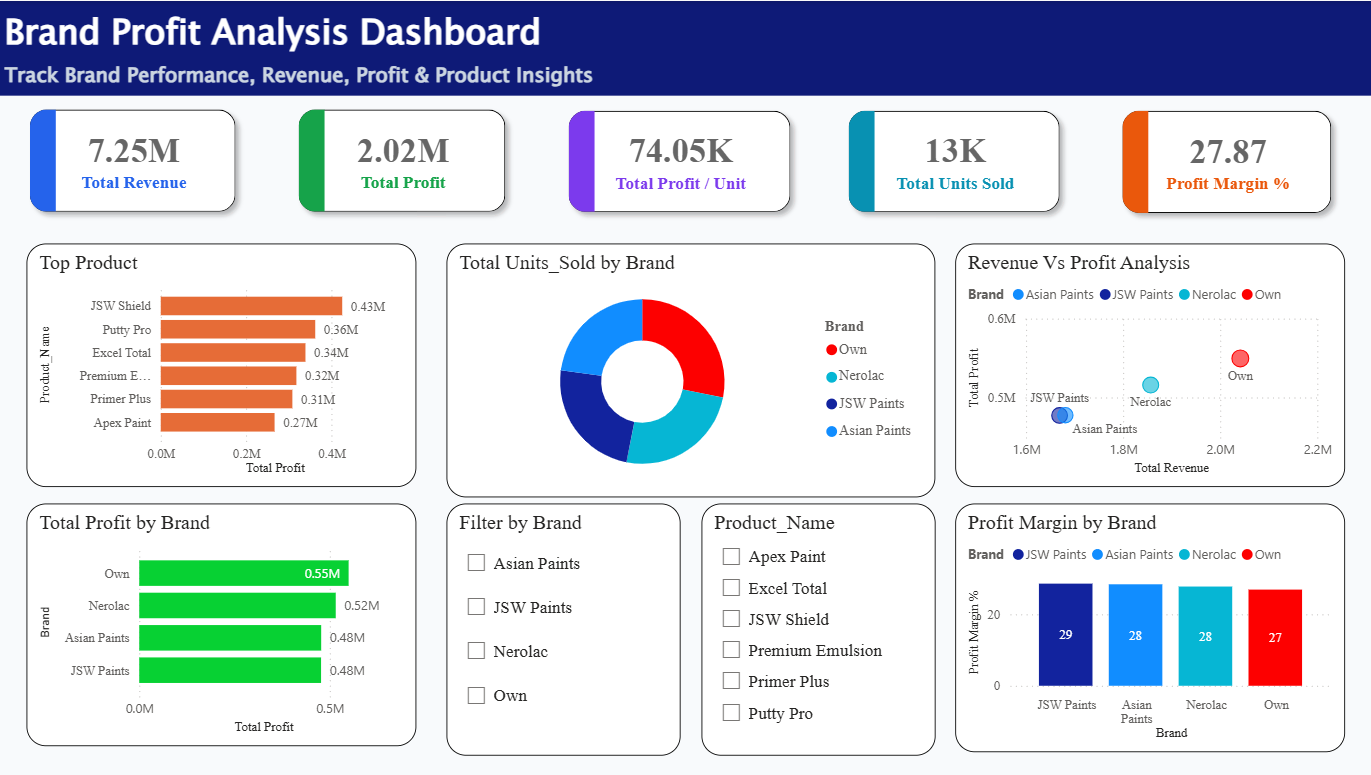

This screenshot's page, from the dashboard's own definition file:
{"tool":"powerbi","page":{"name":"Page 1","canvas":[1280,720],"ordinal":0},"visuals":[{"type":"clusteredBarChart","fields":{"Category":["Brand_Profit.Brand"],"Y":["Brand_Profit.Total Profit"]},"box":[25.6,467.4,362.8,225.6],"z":0},{"type":"clusteredBarChart","title":"Top Product","fields":{"Category":["Brand_Profit.Product_Name"],"Y":["Brand_Profit.Total Profit"]},"box":[25.6,225.6,362.8,226.7],"z":1000},{"type":"scatterChart","title":" Revenue Vs  Profit Analysis","fields":{"X":["Brand_Profit.Total Revenue"],"Y":["Brand_Profit.Total Profit"],"Category":["Brand_Profit.Brand"],"Size":["Sum(Brand_Profit.Units_Sold)"],"Series":["Brand_Profit.Brand"]},"box":[888.9,225.4,362.5,226.6],"z":2000},{"type":"columnChart","title":"Profit Margin by Brand","fields":{"Category":["Brand_Profit.Brand"],"Y":["Brand_Profit.Profit Margin %"],"Series":["Brand_Profit.Brand"]},"box":[888.9,467.1,362.5,231.2],"z":3000},{"type":"donutChart","title":"Total Units_Sold by Brand","fields":{"Category":["Brand_Profit.Brand"],"Y":["Sum(Brand_Profit.Units_Sold)"]},"box":[416,225.4,454,235.9],"z":4000},{"type":"textbox","box":[0,0,1280.2,88.4],"z":5000},{"type":"slicer","title":"Filter by Brand","fields":{"Values":["Brand_Profit.Brand"]},"box":[416,467.1,217.3,234.7],"z":6000},{"type":"slicer","title":"Product_Name","fields":{"Values":["Brand_Profit.Product_Name"]},"box":[653,467.1,217.3,234.7],"z":7000},{"type":"cardVisual","title":"Total Revenue ","fields":{"Data":["Sum(Brand_Profit.Revenue)"]},"box":[0,72,249.8,153.4],"z":8000},{"type":"cardVisual","fields":{"Data":["Brand_Profit.Total Profit"]},"box":[249.8,72,251,153.4],"z":9000},{"type":"cardVisual","fields":{"Data":["Brand_Profit.Profit Margin %"]},"box":[1015.5,73.2,252.1,153.4],"z":10000},{"type":"cardVisual","fields":{"Data":["Brand_Profit.Total Units Sold"]},"box":[761.1,73.2,254.5,152.2],"z":11000},{"type":"cardVisual","fields":{"Data":["Sum(Brand_Profit.Profit Per Unit)"]},"box":[500.8,73.2,264.9,152.2],"z":12000}]}

Visuals, with their boxes in screenshot pixels (x1, y1, x2, y2), scaled from the page's 1280x720 canvas onto the 1371x775 screenshot:
clusteredBarChart - Brand_Profit.Brand x Brand_Profit.Total Profit: {"x1": 27, "y1": 503, "x2": 416, "y2": 746}
"Top Product" clusteredBarChart: {"x1": 27, "y1": 243, "x2": 416, "y2": 487}
" Revenue Vs  Profit Analysis" scatterChart: {"x1": 952, "y1": 243, "x2": 1340, "y2": 487}
"Profit Margin by Brand" columnChart: {"x1": 952, "y1": 503, "x2": 1340, "y2": 752}
"Total Units_Sold by Brand" donutChart: {"x1": 446, "y1": 243, "x2": 932, "y2": 497}
textbox: {"x1": 0, "y1": 0, "x2": 1370, "y2": 95}
"Filter by Brand" slicer: {"x1": 446, "y1": 503, "x2": 678, "y2": 755}
"Product_Name" slicer: {"x1": 699, "y1": 503, "x2": 932, "y2": 755}
"Total Revenue " cardVisual: {"x1": 0, "y1": 78, "x2": 268, "y2": 243}
cardVisual - Brand_Profit.Total Profit: {"x1": 268, "y1": 78, "x2": 536, "y2": 243}
cardVisual - Brand_Profit.Profit Margin %: {"x1": 1088, "y1": 79, "x2": 1358, "y2": 244}
cardVisual - Brand_Profit.Total Units Sold: {"x1": 815, "y1": 79, "x2": 1088, "y2": 243}
cardVisual - Sum(Brand_Profit.Profit Per Unit): {"x1": 536, "y1": 79, "x2": 820, "y2": 243}
